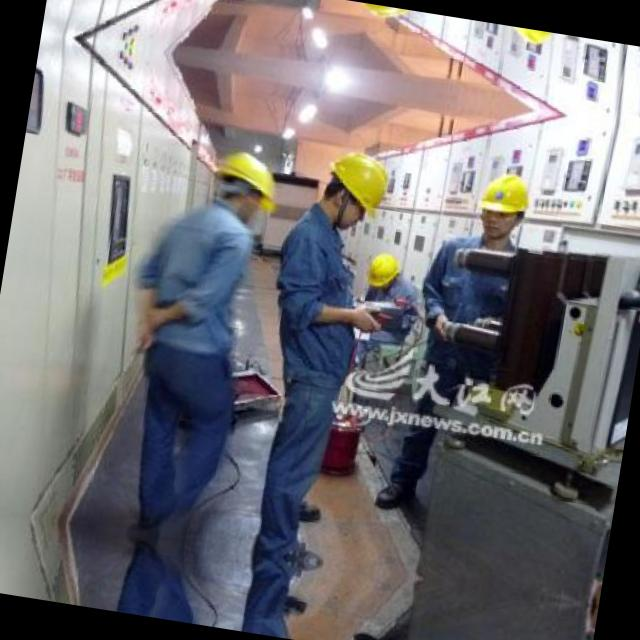helmet: (310, 142, 398, 236), (205, 147, 283, 229), (468, 161, 538, 250), (342, 0, 421, 29), (360, 246, 404, 296), (499, 25, 560, 57)
